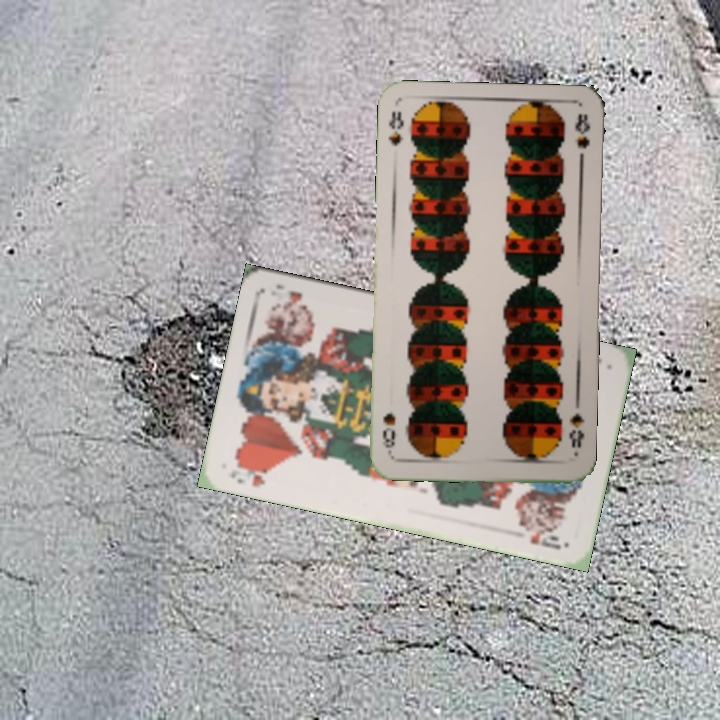HO: (226, 459, 274, 489)
S8: (384, 107, 406, 149), (565, 409, 587, 450)
